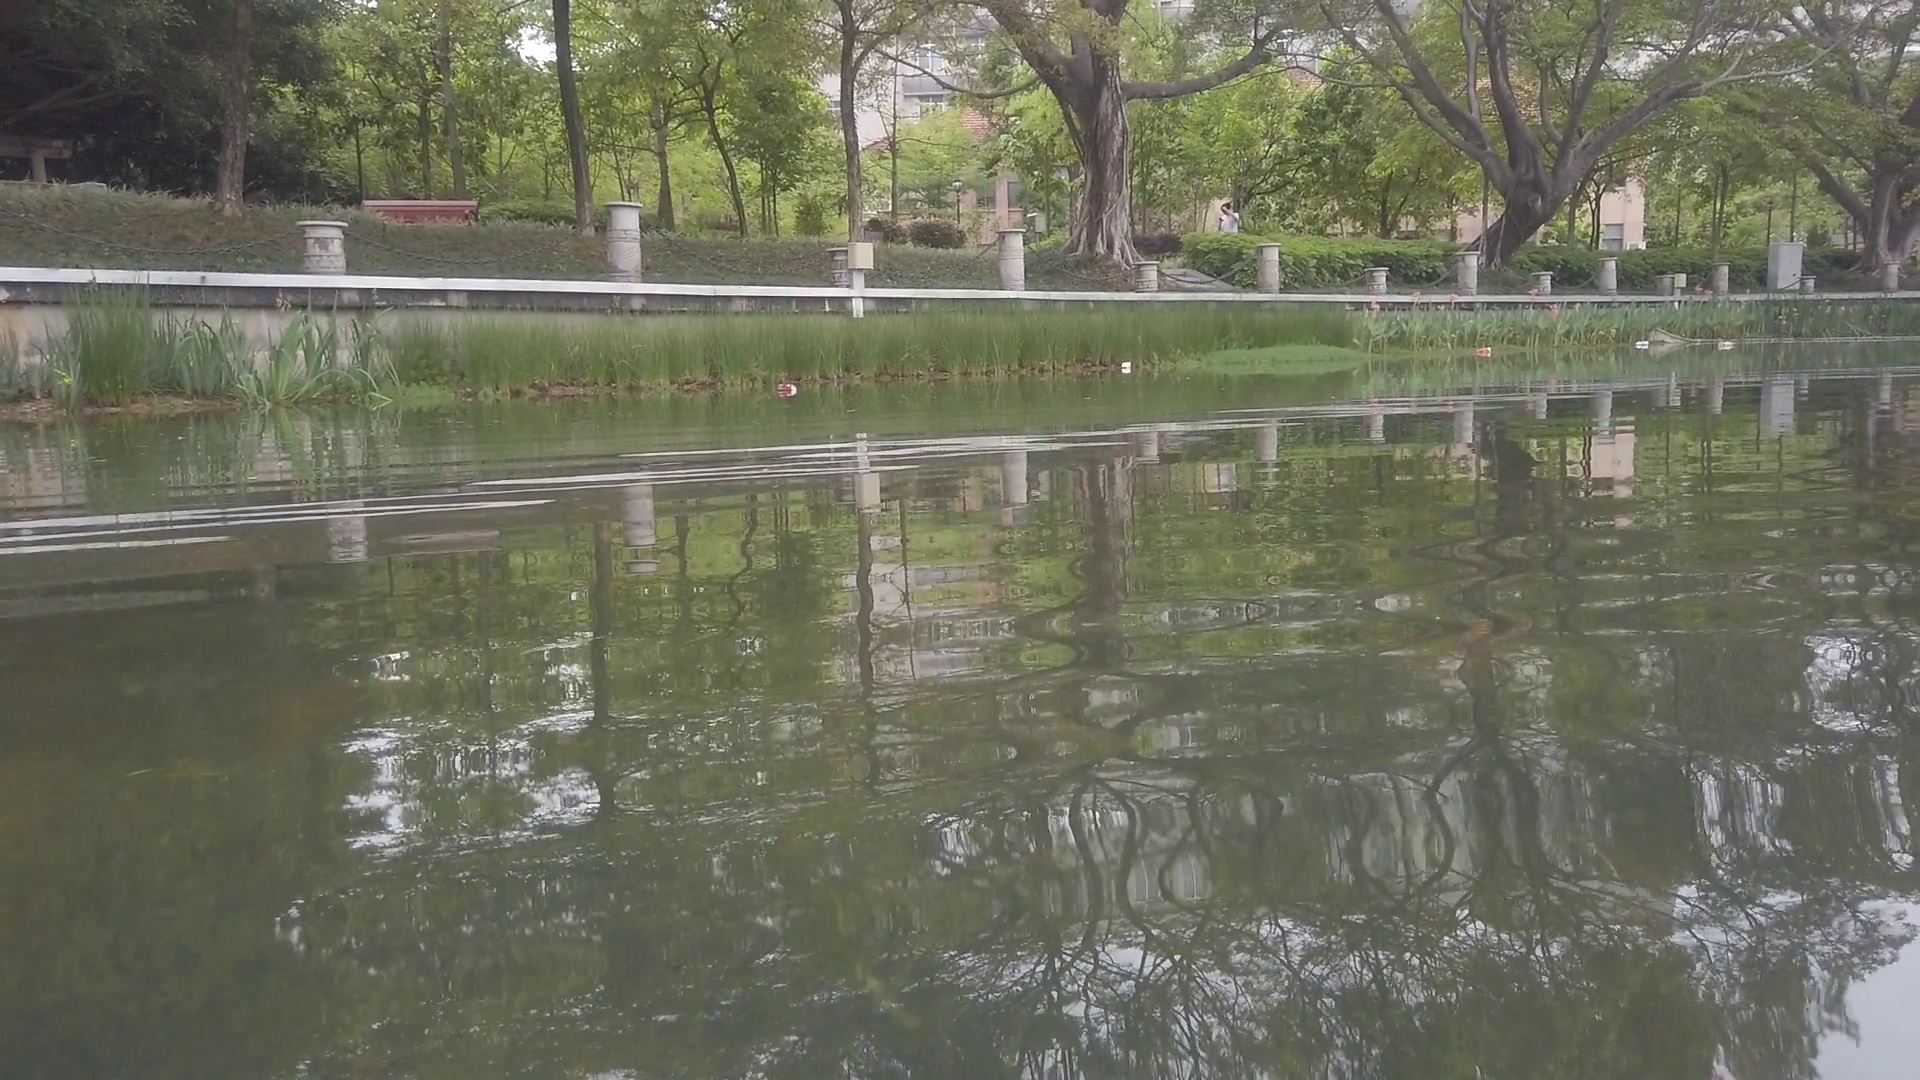bottle: (777, 384, 798, 393), (1718, 342, 1735, 349), (1634, 340, 1651, 347), (1477, 347, 1493, 353)
carton: (1121, 360, 1131, 371)
